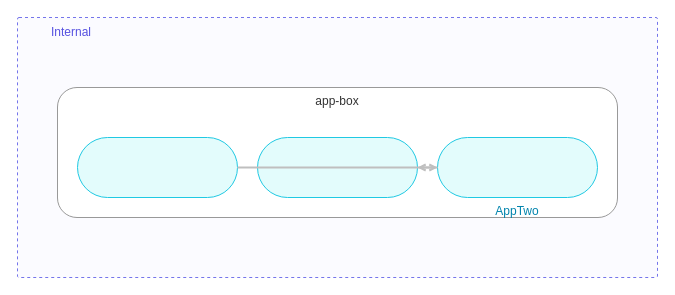
Some shapes in this 675 by 295 pixel diagram are drawn without their labels. The centre of each missing label's shape, as x and y in pixels:
"AppOne" goes at point (157, 167).
"AppThree" goes at point (337, 167).
